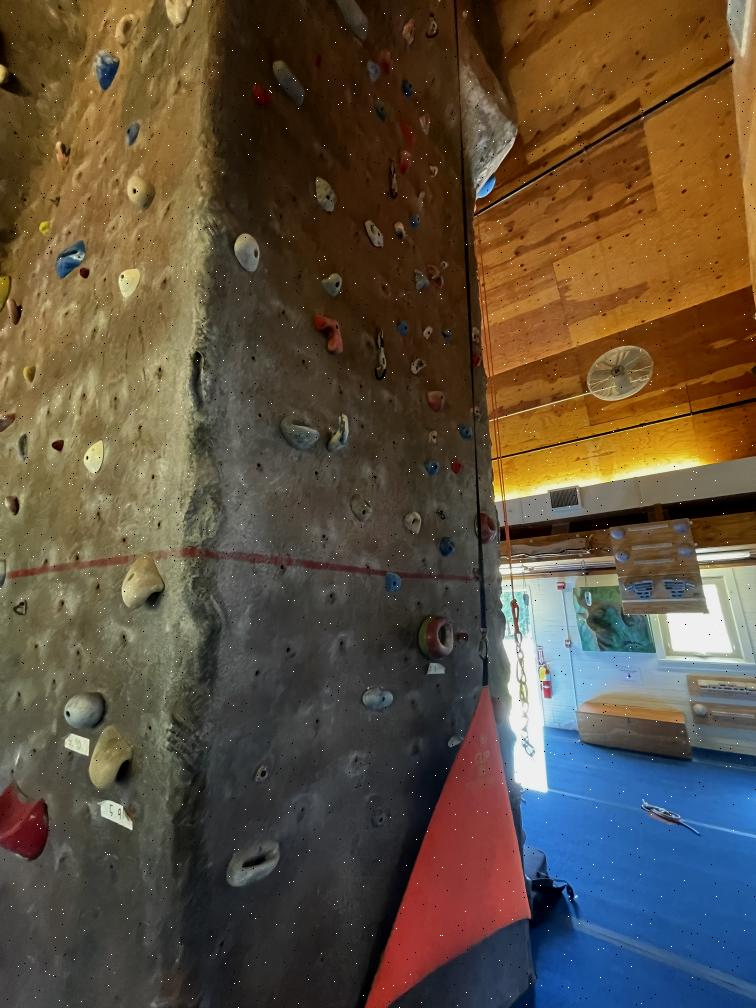Crimp: (384, 568, 404, 595), (372, 100, 388, 124), (400, 78, 416, 99), (426, 427, 439, 448), (427, 164, 440, 178), (471, 351, 482, 367), (438, 259, 450, 271)
Edges: (79, 440, 108, 476), (124, 122, 142, 146), (36, 218, 54, 236), (425, 15, 438, 38), (456, 632, 472, 644)
Foothold: (367, 802, 394, 829), (253, 764, 274, 784), (78, 266, 92, 281), (51, 438, 65, 451), (315, 54, 326, 67)
Hand-holds: (308, 310, 346, 355), (426, 264, 444, 289), (440, 326, 454, 345), (470, 325, 481, 345)
Jug: (0, 775, 56, 870), (86, 720, 141, 798), (114, 547, 174, 617), (264, 407, 323, 455), (123, 173, 159, 214), (326, 407, 353, 458), (111, 10, 142, 50), (310, 174, 339, 215), (348, 491, 378, 525), (48, 139, 73, 171), (318, 271, 344, 299), (423, 389, 449, 416), (6, 293, 25, 328), (402, 507, 422, 536), (362, 58, 380, 89), (395, 149, 414, 175), (397, 121, 416, 147), (15, 430, 29, 465), (411, 268, 429, 293), (4, 492, 21, 518), (417, 113, 433, 140), (21, 361, 38, 386), (408, 356, 426, 376), (420, 323, 436, 341), (424, 458, 439, 476), (407, 213, 422, 229), (450, 458, 463, 476), (396, 320, 410, 335)
Pinch: (350, 683, 402, 716), (246, 82, 271, 107), (0, 408, 18, 434)
Pocket: (224, 841, 286, 894), (412, 613, 456, 664), (52, 235, 86, 280), (471, 509, 499, 548), (364, 219, 386, 251), (439, 533, 459, 561)
Sloper: (60, 688, 107, 731), (332, 0, 376, 42), (272, 57, 308, 106), (230, 232, 264, 276), (94, 49, 121, 91), (115, 267, 142, 303), (398, 15, 416, 48), (476, 176, 500, 199), (376, 49, 394, 76), (457, 421, 473, 442), (468, 402, 483, 423), (393, 220, 406, 241)
